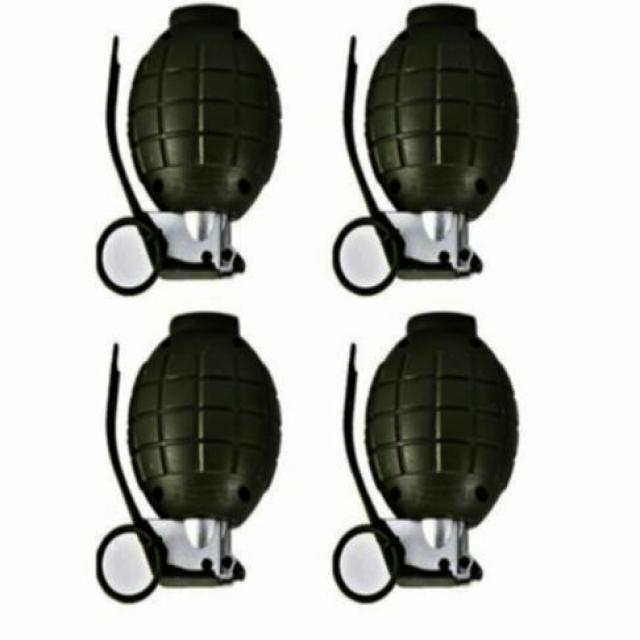grenade: (96, 5, 283, 297), (336, 5, 521, 297), (97, 313, 283, 602), (336, 313, 521, 599)
